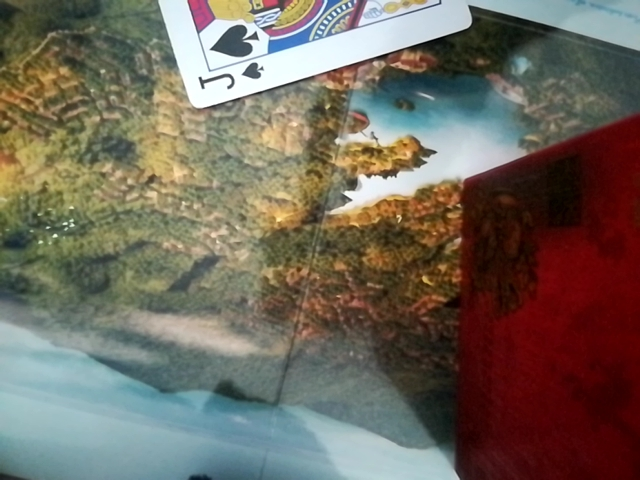ht j: (139, 2, 485, 112)
